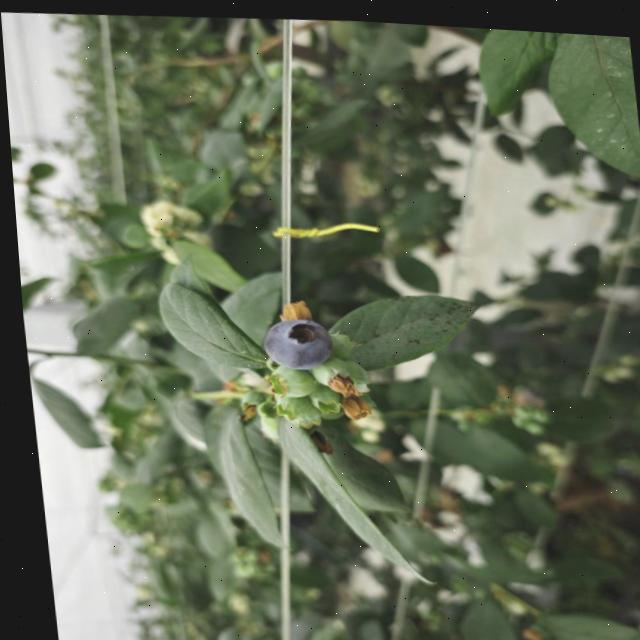RipeBlueBerry: (255, 310, 331, 369)
UnripeBlueBerry: (262, 359, 312, 396), (305, 353, 348, 385)
